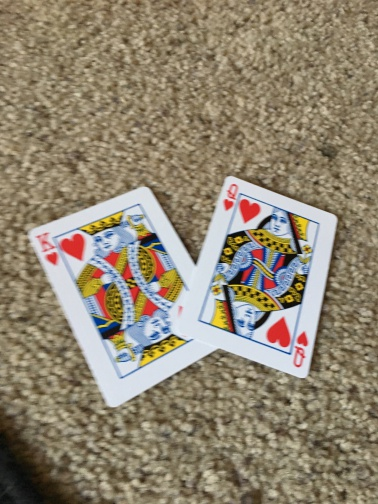king: (26, 188, 207, 404)
queen: (179, 175, 339, 376)
